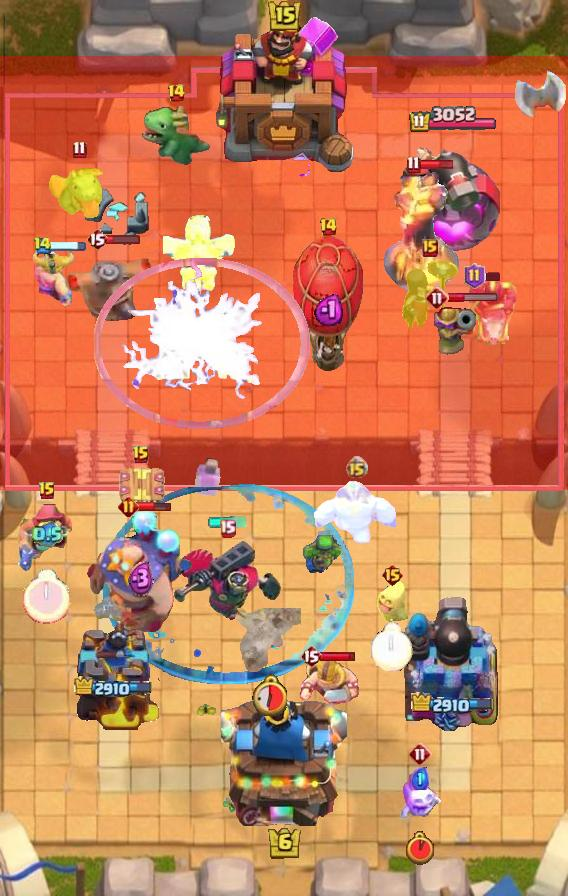barbarian-evolution: (94, 258, 311, 431)
bat-evolution: (375, 578, 409, 622)
bomb-tower: (434, 302, 476, 370)
cannon-cart: (292, 235, 364, 375)
dark-prince: (63, 239, 159, 329)
electro-dragon: (383, 169, 461, 297)
electro-spirit: (314, 292, 343, 326), (128, 561, 154, 597), (33, 520, 63, 547), (412, 767, 429, 790)
electro-wizard: (140, 105, 211, 168), (46, 158, 112, 220)
elixir: (23, 569, 71, 624), (371, 621, 413, 671), (251, 674, 287, 716), (406, 831, 434, 865)
emote: (448, 292, 500, 303), (49, 240, 86, 252), (319, 651, 356, 662), (105, 234, 141, 245), (136, 500, 172, 511), (419, 159, 454, 170), (482, 271, 502, 282)
fireball: (16, 504, 78, 574)
fisherman: (237, 608, 301, 677)
freeze: (455, 280, 519, 348)
giant-snowball: (299, 535, 341, 575)
goblin-brawler: (116, 465, 166, 505)
goblin-giant: (297, 657, 359, 705), (32, 250, 76, 306)
ice-spirit: (206, 516, 248, 528)
inferno-tower: (171, 540, 283, 628)
king-tower: (211, 7, 357, 181), (221, 690, 347, 826)
knight-evolution: (192, 458, 220, 497)
little-prince: (87, 508, 195, 634)
mini-pekka: (163, 214, 239, 304)
mirror: (399, 771, 441, 821)
pad_0: (100, 482, 354, 684)
queen-tower: (66, 617, 162, 731)
rage: (312, 479, 400, 547)
rascal-boy: (399, 259, 461, 331)
royal-giant: (514, 52, 568, 120)
selected: (408, 106, 498, 134), (411, 691, 495, 716), (74, 676, 154, 700)
text: (425, 286, 449, 310), (408, 742, 432, 766), (463, 263, 485, 289), (381, 563, 404, 587), (345, 456, 368, 479), (86, 227, 108, 251), (300, 644, 322, 668), (117, 495, 138, 517), (166, 83, 185, 103), (319, 217, 338, 237), (33, 237, 52, 256), (132, 445, 150, 465), (38, 481, 56, 501), (219, 519, 236, 538), (422, 239, 438, 257), (406, 155, 421, 174), (73, 141, 87, 160)
tower-bar: (404, 593, 502, 731), (402, 136, 504, 256)
